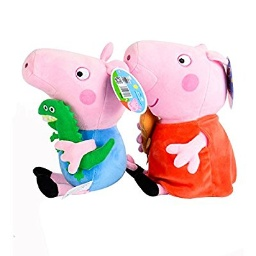Peppa: (124, 40, 241, 200)
